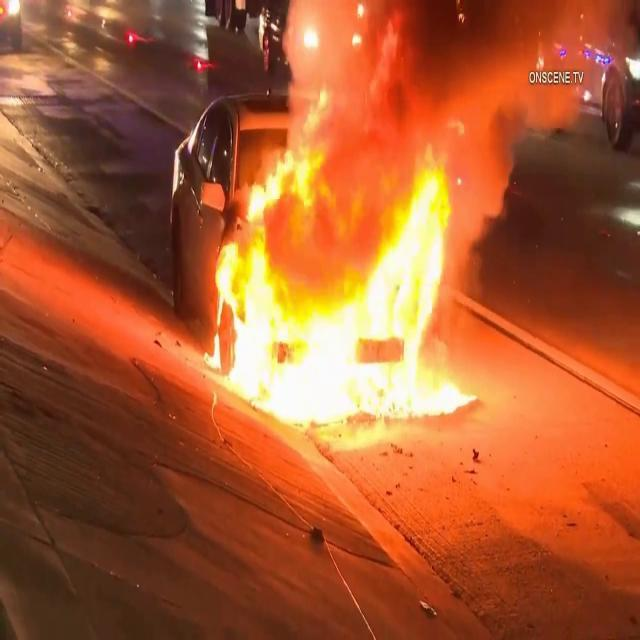Fire: (219, 200, 461, 433)
Smoke: (286, 0, 620, 178)
